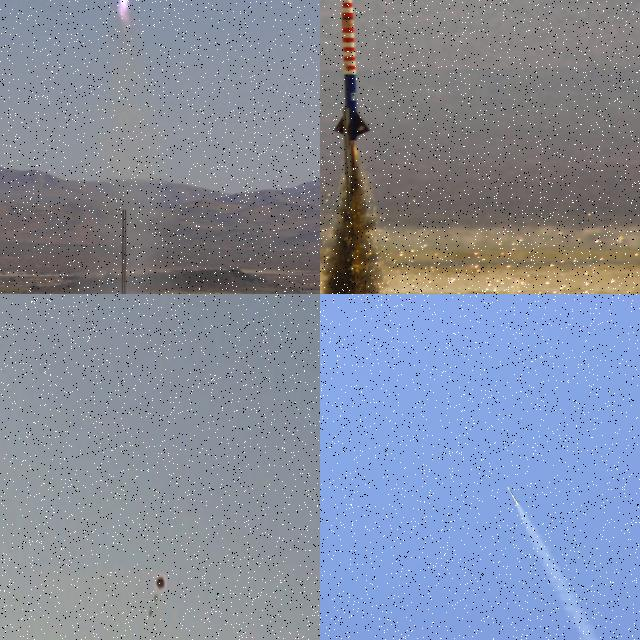Rocket: (332, 0, 371, 140), (506, 486, 522, 504)
